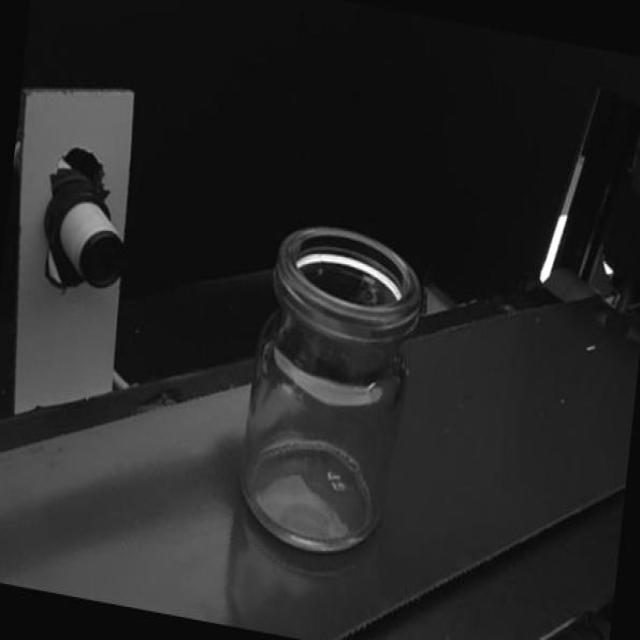defect: (350, 377, 377, 399)
glass: (229, 213, 432, 569)
